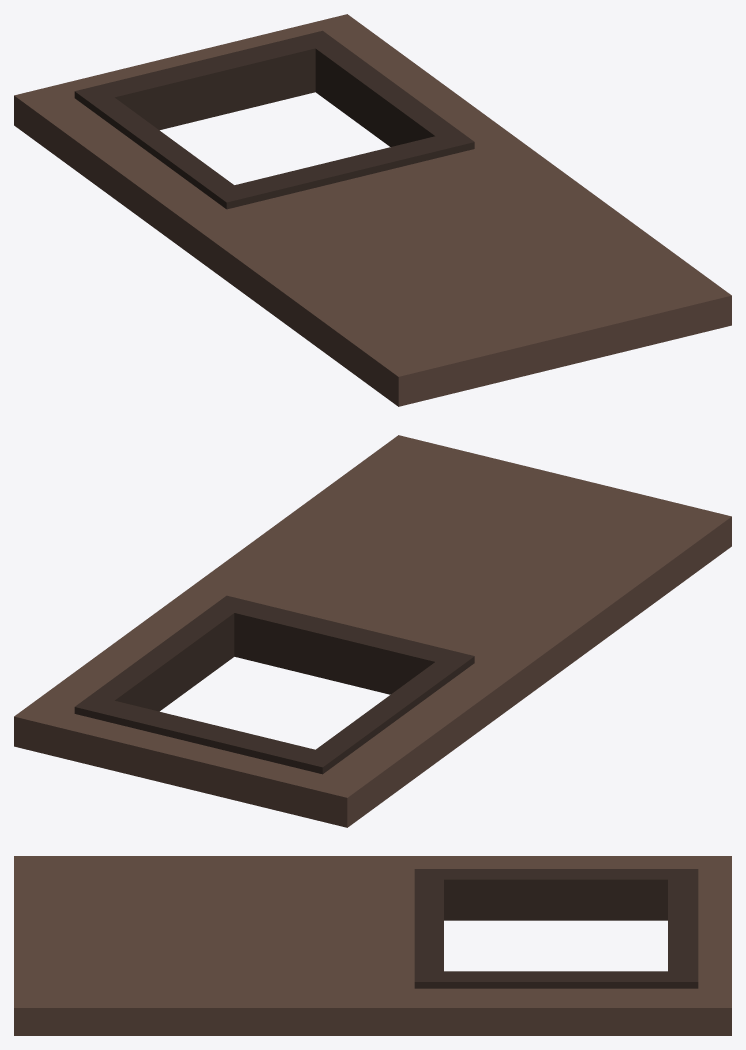
The model's file is Door_2.glb.
The picture shows the model from 3 angles, top to bottom: view 1: azimuth 30°, elevation 25°; view 2: azimuth 150°, elevation 25°; view 3: azimuth 270°, elevation 25°; orthographic projection. The views are drawn at different scales.
Parts seen in each view (by area): view 1: Door 2; view 2: Door 2; view 3: Door 2.
Boxes of the visible parts, x1=… form: Door 2: x1=14, y1=14, x2=731, y2=406; Door 2: x1=14, y1=435, x2=731, y2=827; Door 2: x1=14, y1=856, x2=731, y2=1035.
Bounding box in the file's own units: 1.01 × 0.1274 × 2.02.
Materials: 1 (1 with a texture image).
